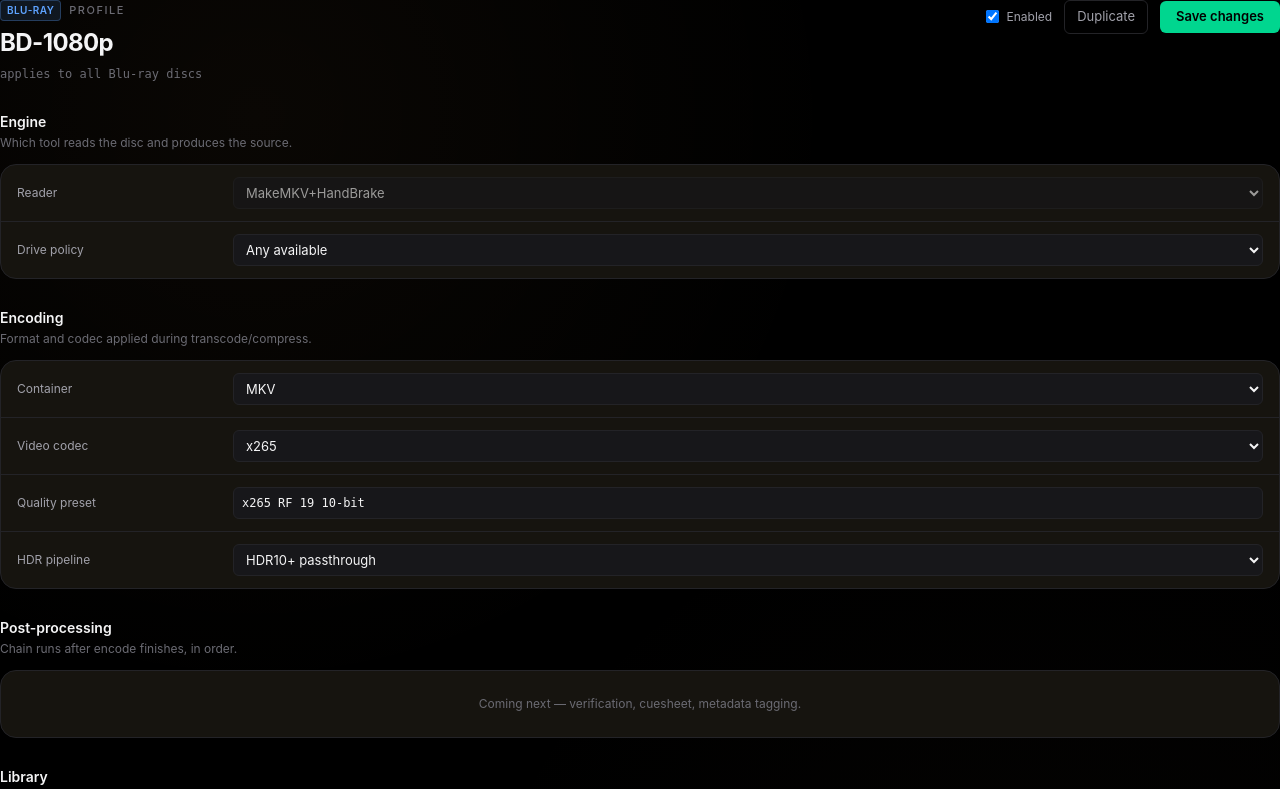
ProfileEditor › Save with 422 surfaces field errors against typed container field
Click the button "Save changes" at (1220, 17), box left=1160, top=1, right=1279, bottom=32
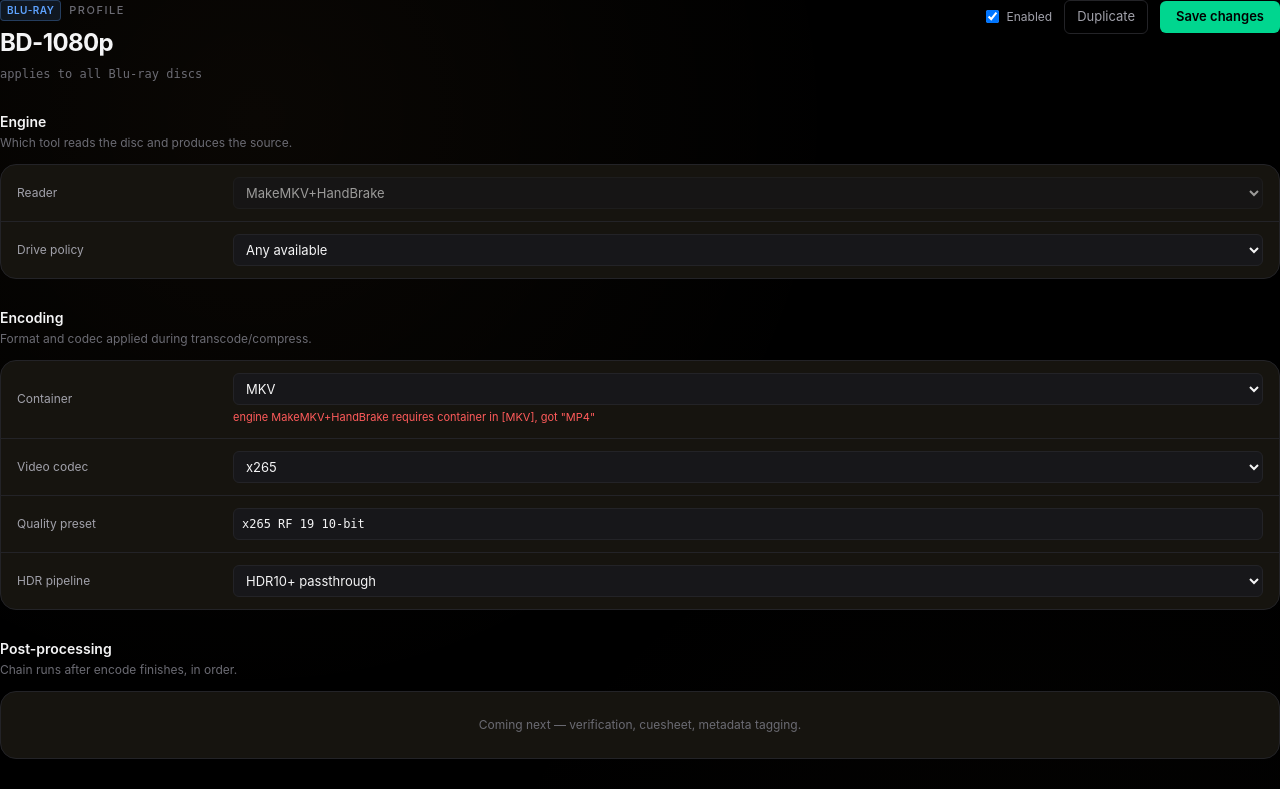
Result: the text "requires container in" is shown at left=233, top=410, right=595, bottom=424
